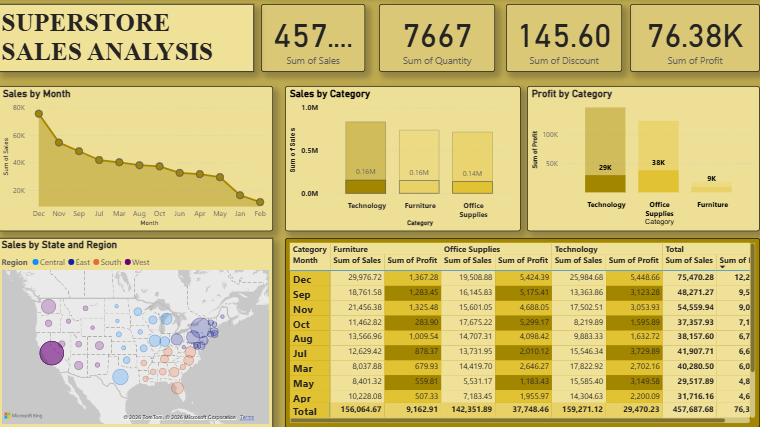

Layout of this report page (visuals, bound fields, positions):
{"tool":"powerbi","page":{"name":"Page 1","canvas":[1280,720],"ordinal":0},"visuals":[{"type":"card","fields":{"Values":["Sum(Superstoree excel.Sales)"]},"box":[430,8.4,210,114.2],"z":0},{"type":"card","fields":{"Values":["Sum(Superstoree excel.Profit)"]},"box":[1061.6,8.4,218.4,114.2],"z":1000},{"type":"card","fields":{"Values":["Sum(Superstoree excel.Discount)"]},"box":[853.3,8.4,194.9,114.2],"z":2000},{"type":"card","fields":{"Values":["Sum(Superstoree excel.Quantity)"]},"box":[640,8.4,194.9,114.2],"z":3000},{"type":"columnChart","title":"Sales by Category","fields":{"Category":["Superstoree excel.Category"],"Y":["Sum(Superstoree excel.Sales)"]},"box":[482.1,146.1,396.4,243.6],"z":4000},{"type":"clusteredColumnChart","title":" Profit by Category","fields":{"Y":["Sum(Superstoree excel.Profit)"],"Category":["Superstoree excel.Category"]},"box":[888.6,146.1,391.4,243.6],"z":5000},{"type":"lineChart","title":" Sales by Month","fields":{"Category":["Superstoree excel.Month"],"Y":["Sum(Superstoree excel.Sales)"]},"box":[0,146.1,461.9,243.6],"z":6000},{"type":"pivotTable","fields":{"Rows":["Superstoree excel.Month"],"Columns":["Superstoree excel.Category"],"Values":["Sum(Superstoree excel.Sales)","Sum(Superstoree excel.Profit)"]},"box":[482.1,401.5,797.9,319.2],"z":7000},{"type":"map","title":"Sales by State and Region","fields":{"Series":["Superstoree excel.Region"],"Size":["Sum(Superstoree excel.Sales)"],"Category":["Superstoree excel.State"]},"box":[0,401.5,461.9,319.2],"z":8000},{"type":"textbox","box":[0,8.4,430,114.2],"z":9000}]}

Visuals, with their boxes in screenshot pixels (x1, y1, x2, y2), scaled from the page's 1280x720 canvas onto the 760x427 screenshot:
card - Sum(Superstoree excel.Sales): [x1=255, y1=5, x2=380, y2=73]
card - Sum(Superstoree excel.Profit): [x1=630, y1=5, x2=759, y2=73]
card - Sum(Superstoree excel.Discount): [x1=507, y1=5, x2=622, y2=73]
card - Sum(Superstoree excel.Quantity): [x1=380, y1=5, x2=496, y2=73]
"Sales by Category" columnChart: [x1=286, y1=87, x2=522, y2=231]
" Profit by Category" clusteredColumnChart: [x1=528, y1=87, x2=759, y2=231]
" Sales by Month" lineChart: [x1=0, y1=87, x2=274, y2=231]
pivotTable - Superstoree excel.Month x Superstoree excel.Category: [x1=286, y1=238, x2=759, y2=426]
"Sales by State and Region" map: [x1=0, y1=238, x2=274, y2=426]
textbox: [x1=0, y1=5, x2=255, y2=73]
